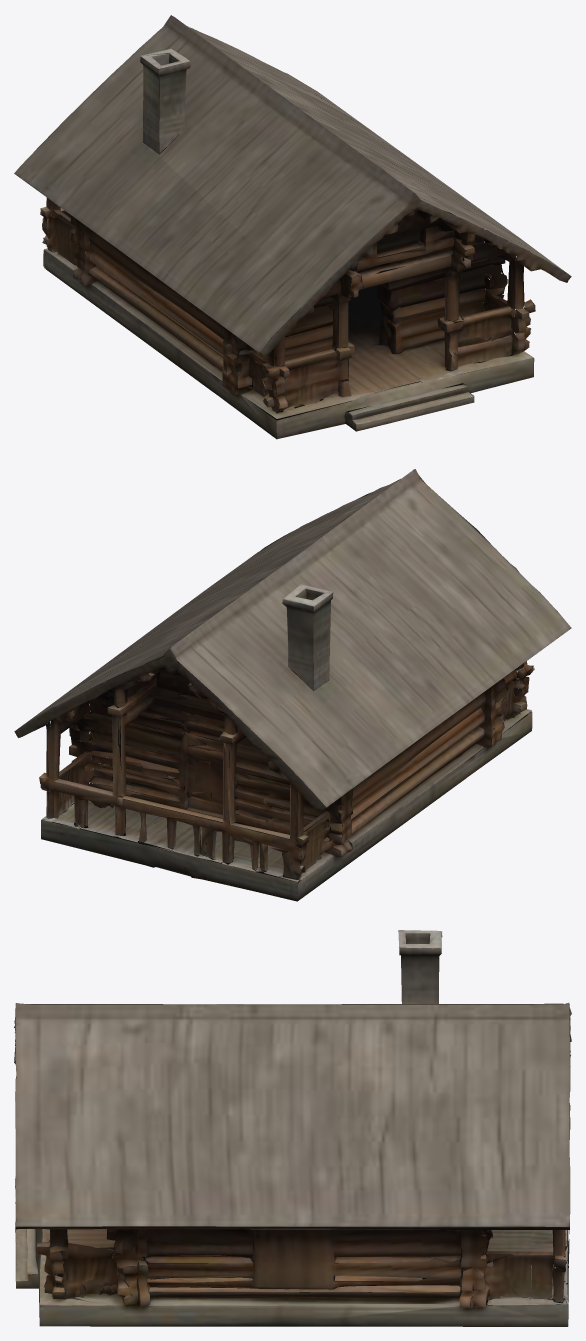
Rendered from education-cabin.glb.
3 renders of one model, top to bottom at view 1: azimuth 30°, elevation 25°; view 2: azimuth 150°, elevation 25°; view 3: azimuth 270°, elevation 25°, orthographic. The views are drawn at different scales.
Parts seen in each view (by area): view 1: Education_Cabin; view 2: Education_Cabin; view 3: Education_Cabin.
Part boxes in pixels (x1,y1,x2,y2): Education_Cabin: [14, 15, 571, 439]; Education_Cabin: [14, 469, 571, 901]; Education_Cabin: [14, 930, 571, 1326].
Bounding box in the file's own units: 3.37 × 2.54 × 4.6.
Materials: 1 (1 with a texture image).
